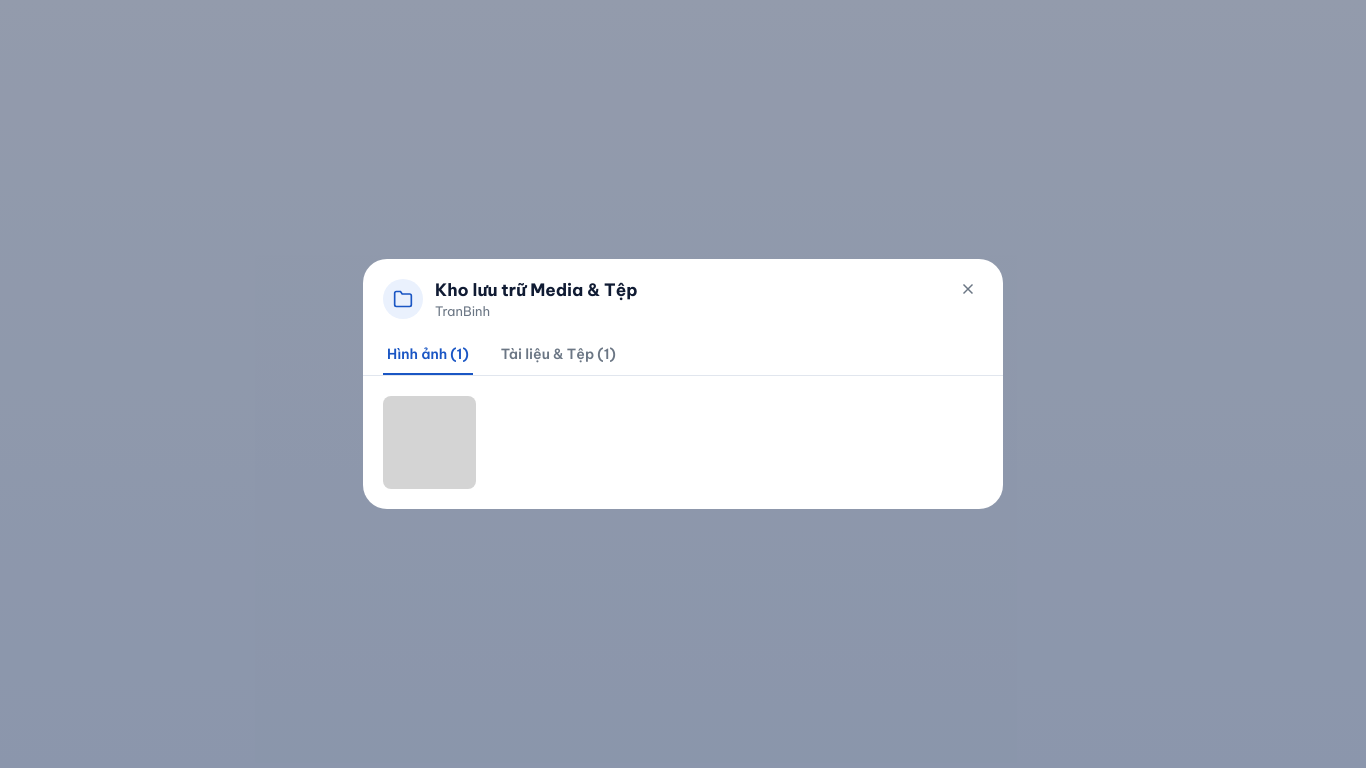
PanelKhoMedia › doi sang tab Tai lieu hien dung tep, khong hien anh
This screenshot has width=1366, height=768.
Click the button "Tài liệu & Tệp (1)".
click(558, 355)  # box x1=497 y1=335 x2=620 y2=375
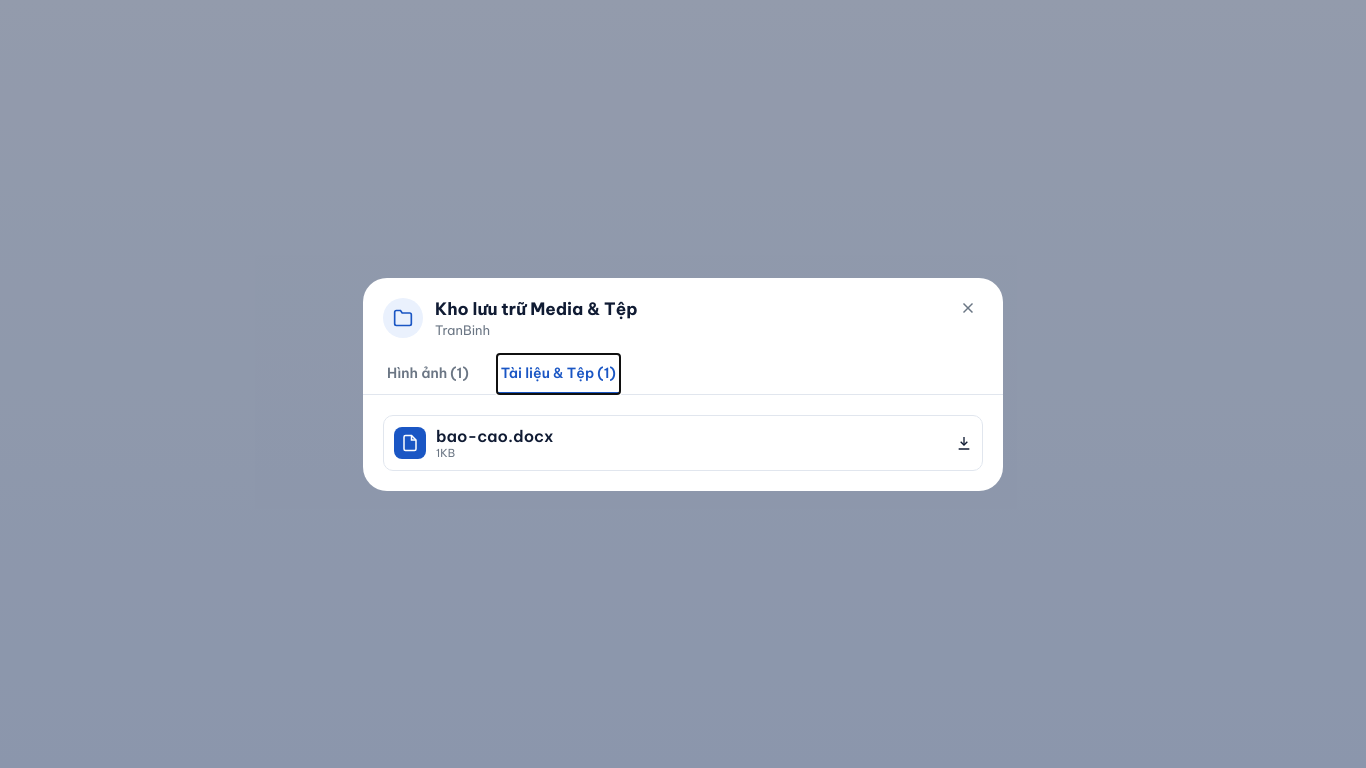
Result: the text "bao-cao.docx" is shown at x1=436 y1=426 x2=553 y2=446
